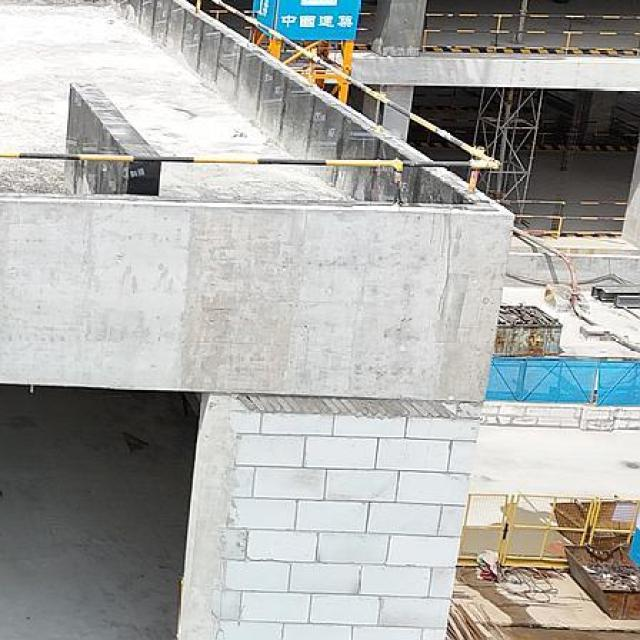edge_guardrail: (0, 0, 503, 206), (421, 12, 640, 55), (502, 199, 628, 238), (354, 12, 376, 48), (206, 10, 228, 21)
